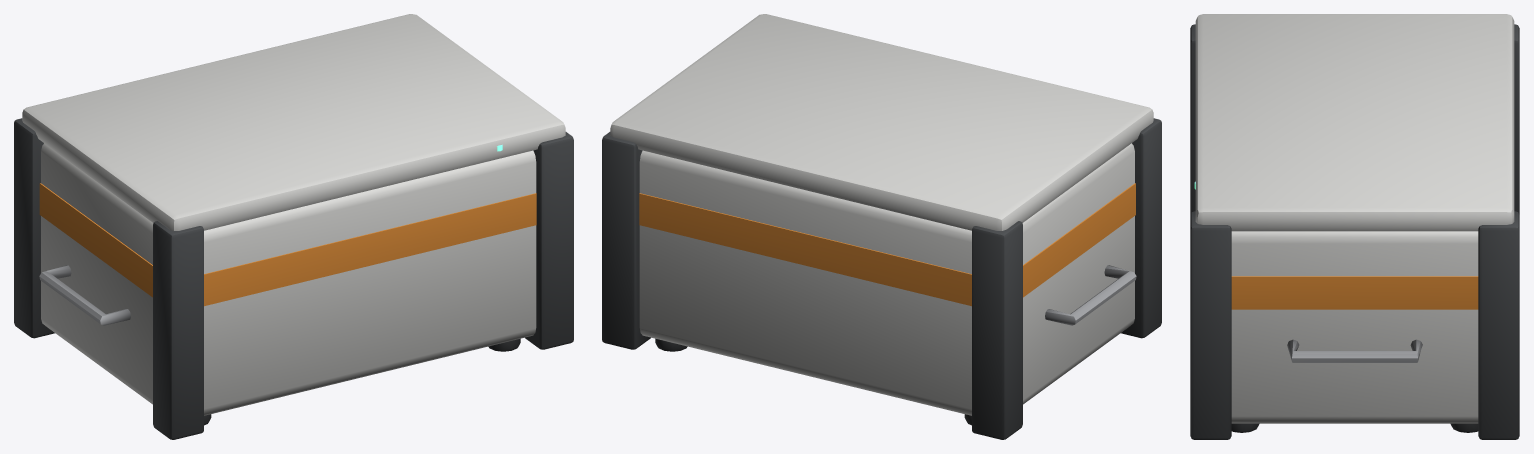
File: example_crate.glb
3 renders of one model, left to right at view 1: azimuth 30°, elevation 25°; view 2: azimuth 150°, elevation 25°; view 3: azimuth 270°, elevation 25°, orthographic. The views are drawn at different scales.
Parts seen in each view (by area): view 1: example_crate_mesh, lid_mesh; view 2: example_crate_mesh, lid_mesh; view 3: lid_mesh, example_crate_mesh.
Part boxes in pixels (box(x1,y1,x2,y2)): example_crate_mesh: box(14, 118, 573, 439); lid_mesh: box(22, 14, 565, 230); example_crate_mesh: box(602, 118, 1161, 439); lid_mesh: box(610, 14, 1153, 230); lid_mesh: box(1194, 14, 1514, 231); example_crate_mesh: box(1190, 24, 1519, 439).
Size of the model in its own units: 1.04 by 0.51 by 0.64.
